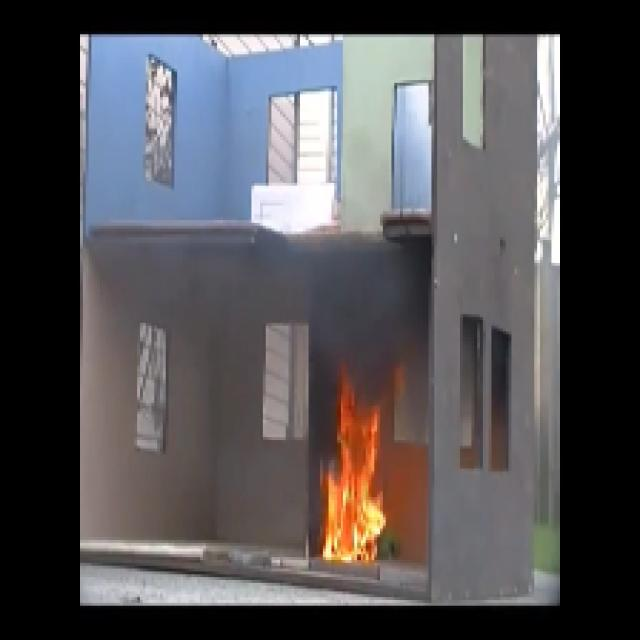fire: (320, 392, 382, 554)
smoke: (315, 239, 418, 349)
